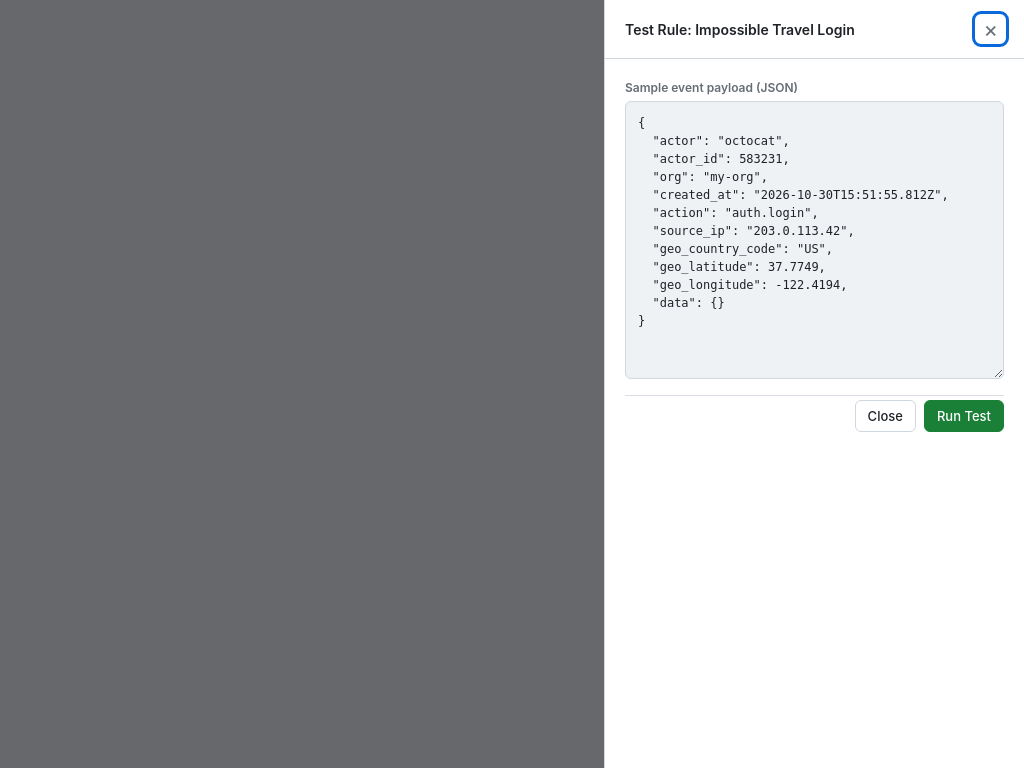
Test: TestRuleModal › shows API error message on failure
The width and height of the screenshot is (1024, 768).
Click the button "Run Test": point(964, 416) [924, 400, 1004, 432]
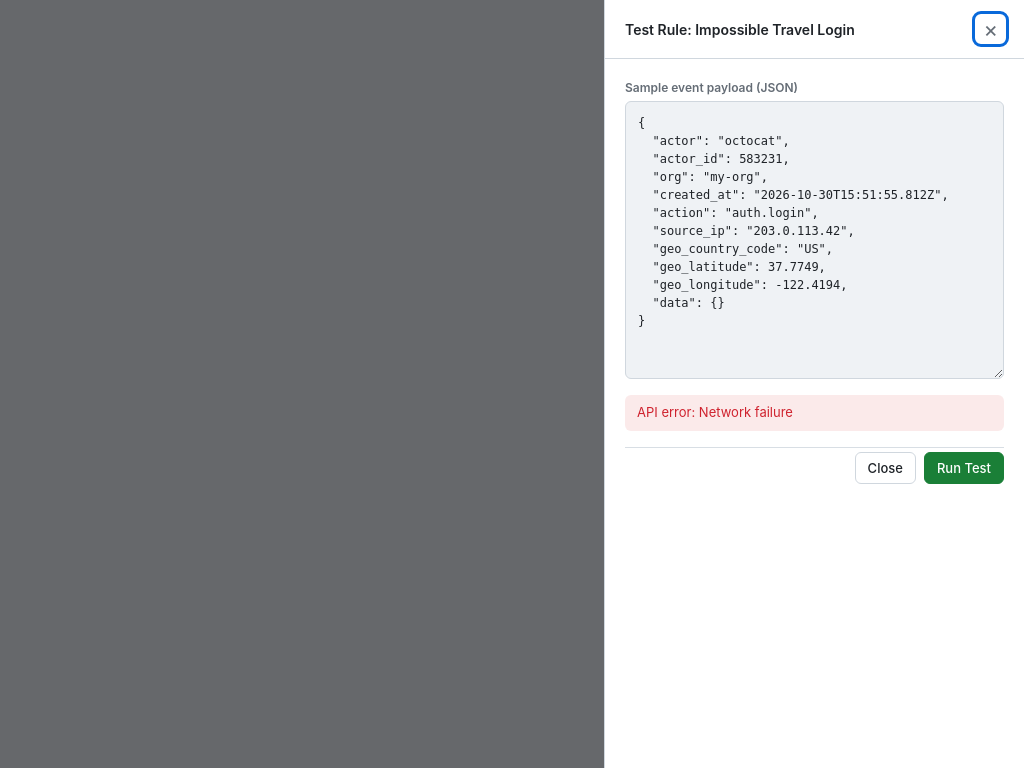
Expected: the text "API error: Network failure" is shown, [625, 395, 1004, 430]
